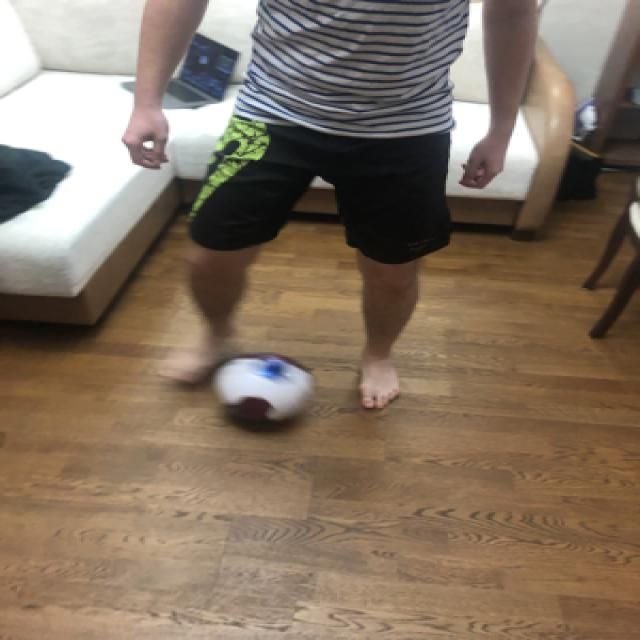soccer_ball: (207, 347, 316, 429)
